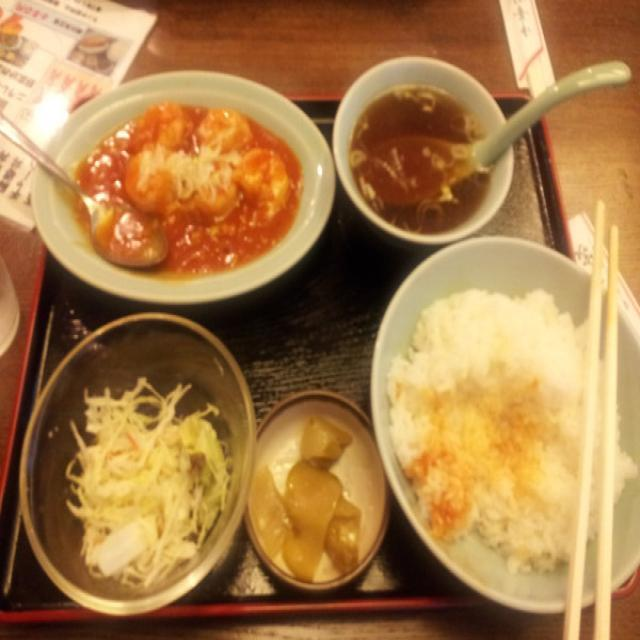Rice: (404, 280, 604, 572)
